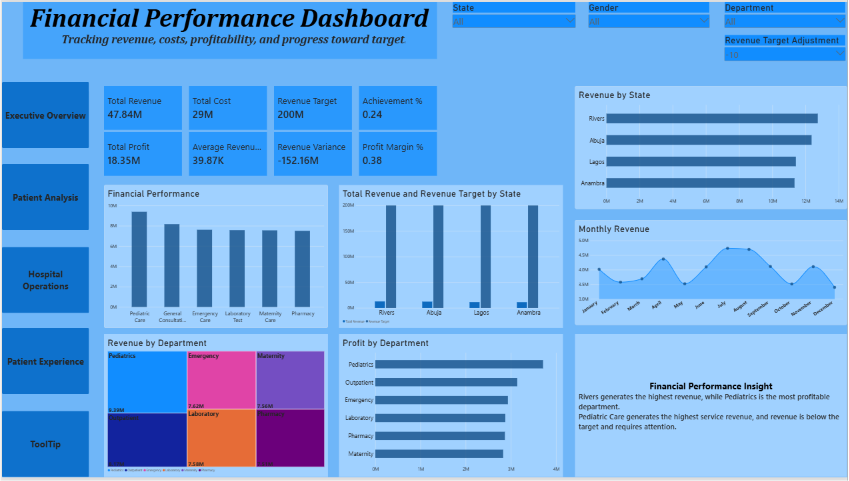

The page's visual inventory and layout, read from the dashboard file:
{"tool":"powerbi","page":{"name":"Financial Performance","canvas":[3840,2160],"ordinal":3},"visuals":[{"type":"shape","box":[95.4,0,1880.6,258.9],"z":0},{"type":"cardVisual","fields":{"Data":["Date_Table.Total Revenue"]},"box":[463.3,381.6,354.3,199.9],"z":1000},{"type":"cardVisual","fields":{"Data":["Date_Table.Total Cost"]},"box":[849.5,381.6,354.3,199.9],"z":2000},{"type":"cardVisual","fields":{"Data":["Date_Table.Profit Margin %"]},"box":[1621.7,590.5,354.3,199.9],"z":3000},{"type":"cardVisual","fields":{"Data":["Date_Table.Total Profit"]},"box":[463.3,590.5,354.3,199.9],"z":4000},{"type":"cardVisual","fields":{"Data":["Date_Table.Revenue Target"]},"box":[1235.6,381.6,354.3,199.9],"z":5000},{"type":"cardVisual","fields":{"Data":["Date_Table.Revenue Variance"]},"box":[1235.6,590.5,354.3,199.9],"z":6000},{"type":"cardVisual","fields":{"Data":["Date_Table.Achievement %"]},"box":[1621.7,381.6,354.3,199.9],"z":7000},{"type":"cardVisual","fields":{"Data":["Date_Table.Average Revenue Per Patient"]},"box":[849.5,590.5,354.3,199.9],"z":8000},{"type":"clusteredBarChart","title":"Revenue by State","fields":{"Category":["Patient_Visits.State"],"Y":["Date_Table.Total Revenue"]},"box":[2602.9,381.6,1235.6,558.7],"z":9000},{"type":"treemap","title":"Revenue by Department","fields":{"Group":["Patient_Visits.Department"],"Values":["Date_Table.Total Revenue"]},"box":[463.3,1508.1,1017.5,649.6],"z":10000},{"type":"clusteredColumnChart","fields":{"Category":["Patient_Visits.Service"],"Y":["Date_Table.Total Revenue"]},"box":[463.3,831.3,1017.5,649.6],"z":11000},{"type":"clusteredBarChart","title":"Profit by Department","fields":{"Category":["Patient_Visits.Department"],"Y":["Date_Table.Total Profit"]},"box":[1530.9,1508.1,1017.5,649.6],"z":12000},{"type":"lineChart","title":"Monthly Revenue","fields":{"Category":["Date_Table.Month"],"Y":["Date_Table.Total Revenue"]},"box":[2602.9,990.3,1235.6,477],"z":13000},{"type":"clusteredColumnChart","fields":{"Category":["Patient_Visits.State"],"Y":["Date_Table.Total Revenue","Date_Table.Revenue Target"]},"box":[1530.9,831.3,1017.5,649.6],"z":14000},{"type":"cardVisual","fields":{"Data":["Date_Table.Financial Performance Insight"]},"box":[2602.9,1508.1,1235.6,649.6],"z":15000},{"type":"textbox","box":[127.2,0,1848.8,299.8],"z":15001},{"type":"slicer","fields":{"Values":["Patient_Visits.State"]},"box":[2039.6,0,572.4,190.8],"z":15002},{"type":"slicer","fields":{"Values":["Patient_Visits.Gender"]},"box":[2657.4,0,563.3,149.9],"z":15003},{"type":"slicer","fields":{"Values":["Patient_Visits.Department"]},"box":[3275.2,0,563.3,149.9],"z":15004},{"type":"actionButton","box":[0,363.4,395.2,299.8],"z":15005},{"type":"actionButton","box":[0,735.9,395.2,299.8],"z":15006},{"type":"actionButton","box":[0,1112.9,395.2,299.8],"z":15007},{"type":"actionButton","box":[0,1480.9,395.2,299.8],"z":15008},{"type":"actionButton","box":[0,1857.9,395.2,299.8],"z":15009},{"type":"slicer","fields":{"Values":["Revenue Target Adjustment.Revenue Target Adjustment"]},"box":[3275.2,149.9,563.3,149.9],"z":15010}]}

Visuals, with their boxes in screenshot pixels (x1, y1, x2, y2), scaled from the page's 3840x2160 canvas onto the 849x481 screenshot:
shape: <region>21, 0, 437, 58</region>
cardVisual - Date_Table.Total Revenue: <region>102, 85, 181, 129</region>
cardVisual - Date_Table.Total Cost: <region>188, 85, 266, 129</region>
cardVisual - Date_Table.Profit Margin %: <region>359, 131, 437, 176</region>
cardVisual - Date_Table.Total Profit: <region>102, 131, 181, 176</region>
cardVisual - Date_Table.Revenue Target: <region>273, 85, 352, 129</region>
cardVisual - Date_Table.Revenue Variance: <region>273, 131, 352, 176</region>
cardVisual - Date_Table.Achievement %: <region>359, 85, 437, 129</region>
cardVisual - Date_Table.Average Revenue Per Patient: <region>188, 131, 266, 176</region>
"Revenue by State" clusteredBarChart: <region>575, 85, 848, 209</region>
"Revenue by Department" treemap: <region>102, 336, 327, 480</region>
clusteredColumnChart - Patient_Visits.Service x Date_Table.Total Revenue: <region>102, 185, 327, 330</region>
"Profit by Department" clusteredBarChart: <region>338, 336, 563, 480</region>
"Monthly Revenue" lineChart: <region>575, 221, 848, 327</region>
clusteredColumnChart - Patient_Visits.State x Date_Table.Total Revenue: <region>338, 185, 563, 330</region>
cardVisual - Date_Table.Financial Performance Insight: <region>575, 336, 848, 480</region>
textbox: <region>28, 0, 437, 67</region>
slicer - Patient_Visits.State: <region>451, 0, 577, 42</region>
slicer - Patient_Visits.Gender: <region>588, 0, 712, 33</region>
slicer - Patient_Visits.Department: <region>724, 0, 848, 33</region>
actionButton: <region>0, 81, 87, 148</region>
actionButton: <region>0, 164, 87, 231</region>
actionButton: <region>0, 248, 87, 315</region>
actionButton: <region>0, 330, 87, 397</region>
actionButton: <region>0, 414, 87, 480</region>
slicer - Revenue Target Adjustment.Revenue Target Adjustment: <region>724, 33, 848, 67</region>
